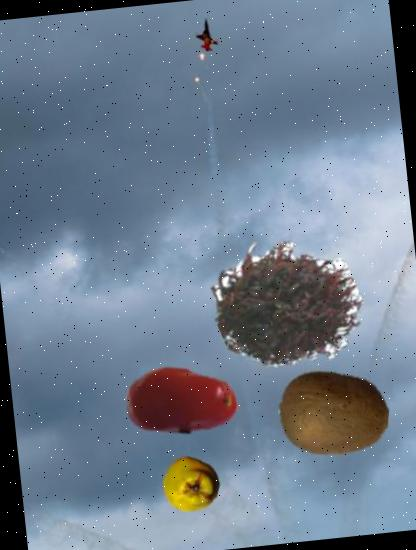Kiwi: (272, 353, 394, 475)
Quince: (160, 454, 223, 517)
Rambutan: (208, 226, 364, 383)
Tomato: (120, 339, 244, 463)
